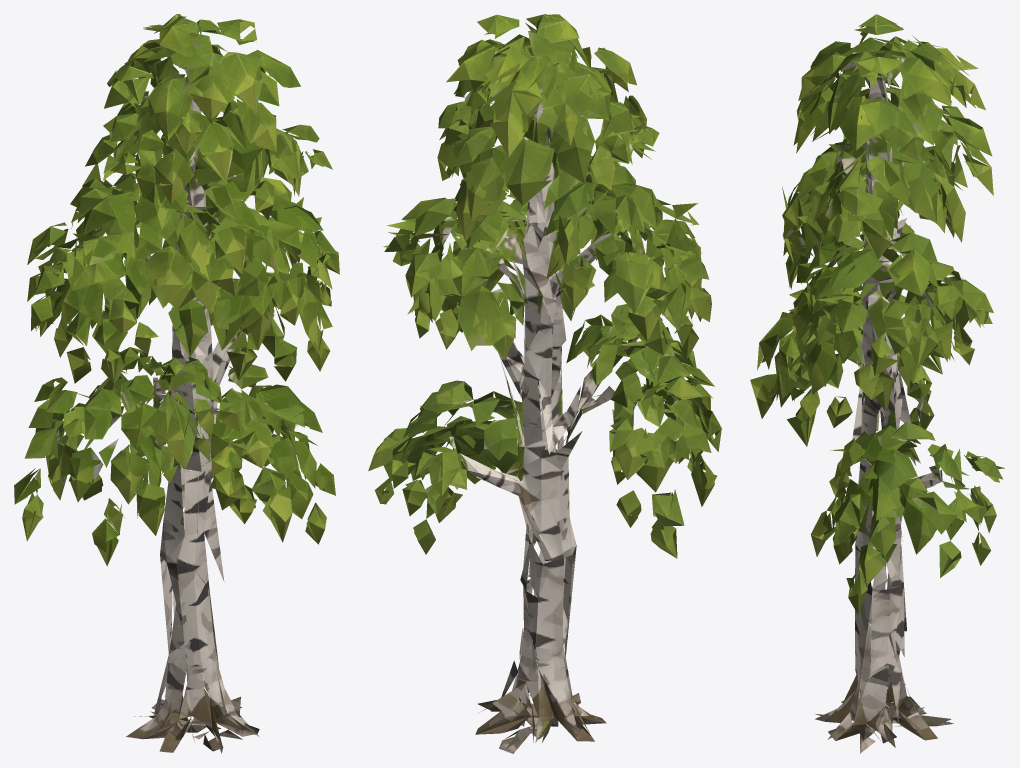
File: tree_birch_lod1.glb
3 renders of one model, left to right at view 1: azimuth 30°, elevation 25°; view 2: azimuth 150°, elevation 25°; view 3: azimuth 270°, elevation 25°, orthographic.
Parts seen in each view (by area): view 1: LOD1; view 2: LOD1; view 3: LOD1.
Boxes of the visible parts, x1=… form: LOD1: x1=14, y1=14, x2=339, y2=753; LOD1: x1=368, y1=14, x2=721, y2=753; LOD1: x1=750, y1=14, x2=1004, y2=753.
Size of the model in its own units: 0.8806 by 1.94 by 0.6318.
Materials: 1 (1 with a texture image).
